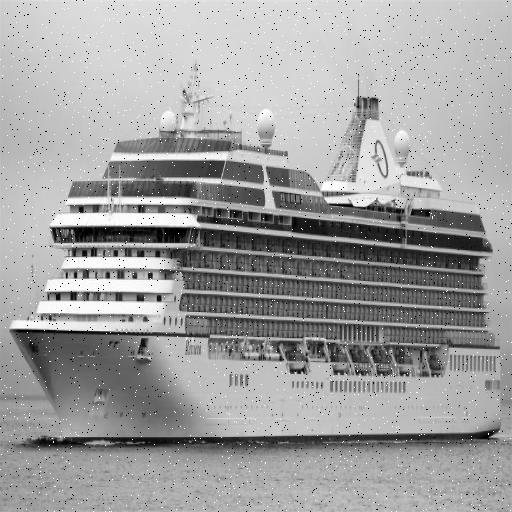cruises: (10, 55, 508, 449)
